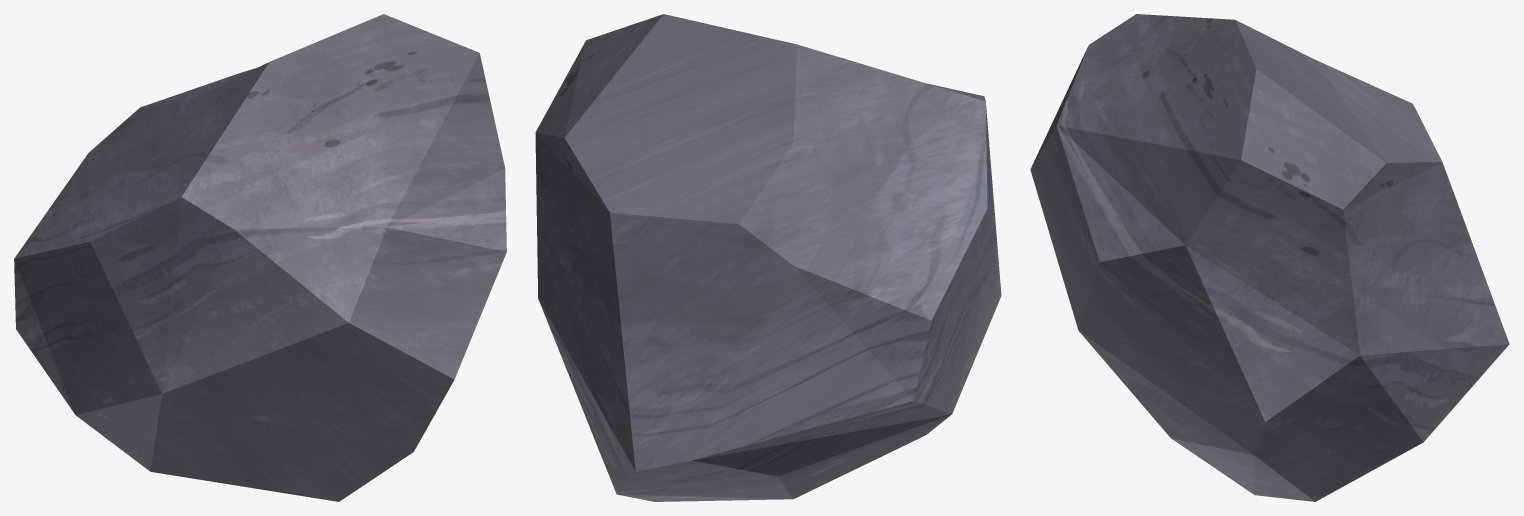
The model's file is rock_2_019.fbx.
3 views of the same model, side by side, from view 1: azimuth 30°, elevation 25°; view 2: azimuth 150°, elevation 25°; view 3: azimuth 270°, elevation 25° (orthographic). The views are drawn at different scales.
Parts seen in each view (by area): view 1: rock 2.019; view 2: rock 2.019; view 3: rock 2.019.
Boxes of the visible parts, x1,y1,x2,y2 form: rock 2.019: (14,14,506,501); rock 2.019: (535,14,1001,501); rock 2.019: (1030,14,1509,501).
Size of the model in its own units: 1512 by 1676 by 1628.
